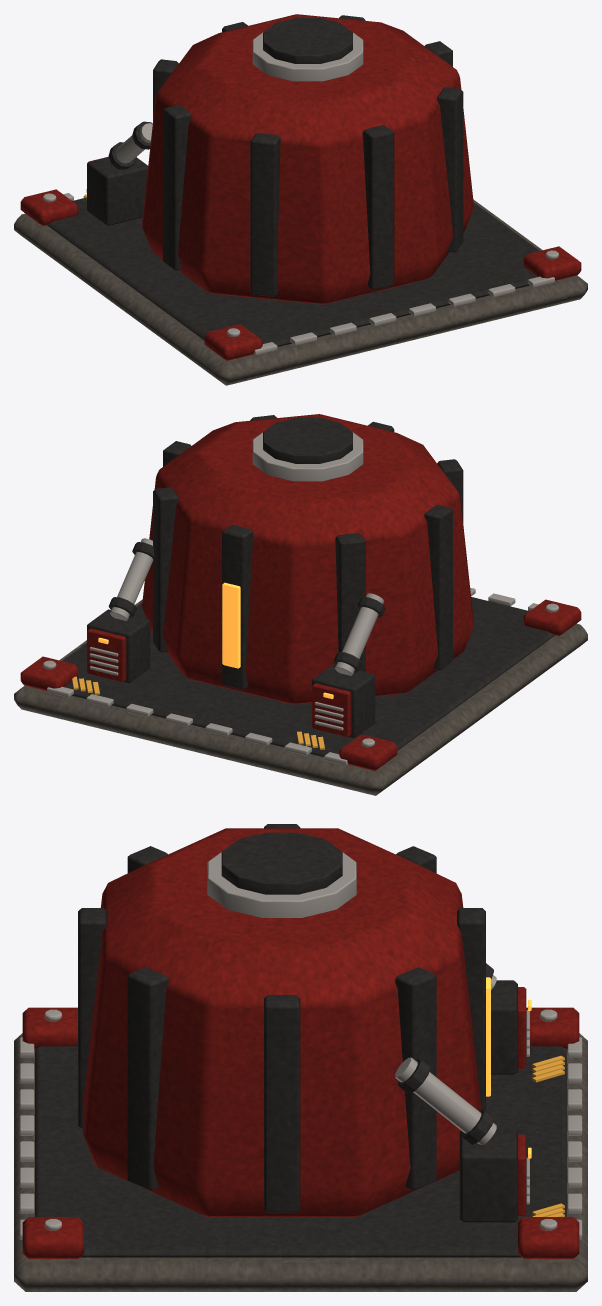
Rendered from kharn_silo_blinde.gltf.
3 renders of one model, top to bottom at view 1: azimuth 30°, elevation 25°; view 2: azimuth 150°, elevation 25°; view 3: azimuth 270°, elevation 25°, orthographic. The views are drawn at different scales.
Parts seen in each view (by area): view 1: Root.007_Geometry; view 2: Root.007_Geometry; view 3: Root.007_Geometry.
Part boxes in pixels (x1,y1,x2,y2): Root.007_Geometry: (14, 14, 587, 385); Root.007_Geometry: (14, 414, 587, 795); Root.007_Geometry: (14, 824, 587, 1291).
Size of the model in its own units: 3.94 by 2.41 by 3.94.
Materials: 6 (3 with a texture image).
